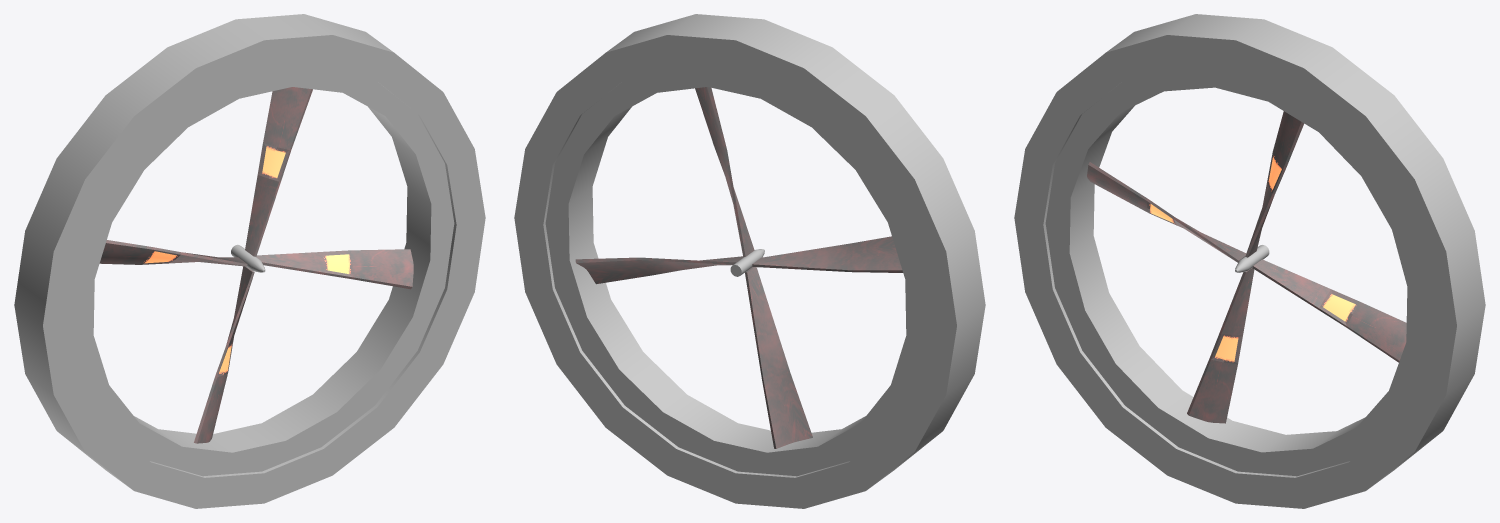
The model's file is rotatorBlades.fbx.
3 renders of one model, left to right at view 1: azimuth 30°, elevation 25°; view 2: azimuth 150°, elevation 25°; view 3: azimuth 330°, elevation 25°, orthographic.
Visible parts, largest first — view 1: ExteriorCircle, InteriorCircle, Blade02, Blade01, Blade03, Blade04; view 2: ExteriorCircle, InteriorCircle, Blade04, Blade03, Blade01, Blade02; view 3: ExteriorCircle, InteriorCircle, Blade01, Blade04, Blade03, Blade02.
Part boxes in pixels (box(x1,y1,x2,y2)): ExteriorCircle: box(14, 14, 485, 508); InteriorCircle: box(72, 66, 454, 476); Blade02: box(245, 87, 312, 256); Blade01: box(256, 249, 413, 289); Blade03: box(99, 240, 247, 266); Blade04: box(194, 266, 254, 443); ExteriorCircle: box(514, 14, 985, 508); InteriorCircle: box(545, 66, 927, 476); Blade04: box(745, 267, 812, 448); Blade03: box(752, 236, 902, 272); Blade01: box(575, 256, 743, 284); Blade02: box(695, 87, 754, 256); ExteriorCircle: box(1014, 14, 1485, 508); InteriorCircle: box(1045, 66, 1427, 476); Blade01: box(1252, 259, 1406, 362); Blade04: box(1187, 267, 1254, 423); Blade03: box(1087, 162, 1246, 262); Blade02: box(1245, 111, 1304, 257).
Bounding box in the file's own units: 4491 × 4491 × 502.
